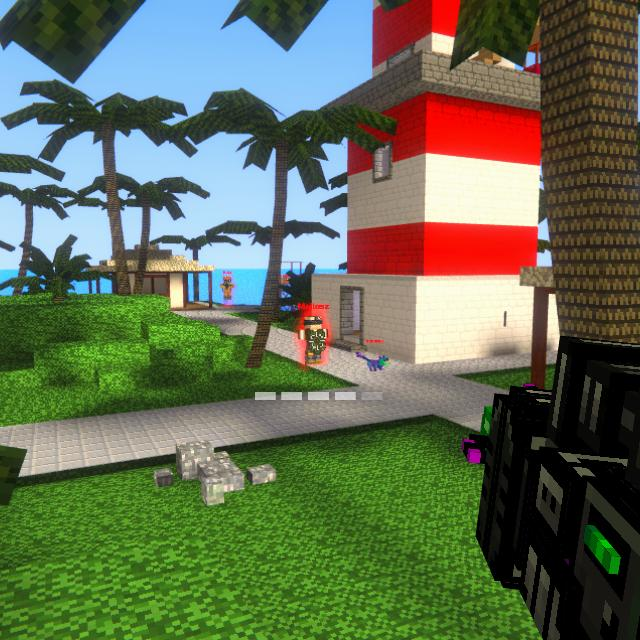Enemy: (298, 317, 329, 368), (222, 276, 233, 299)
